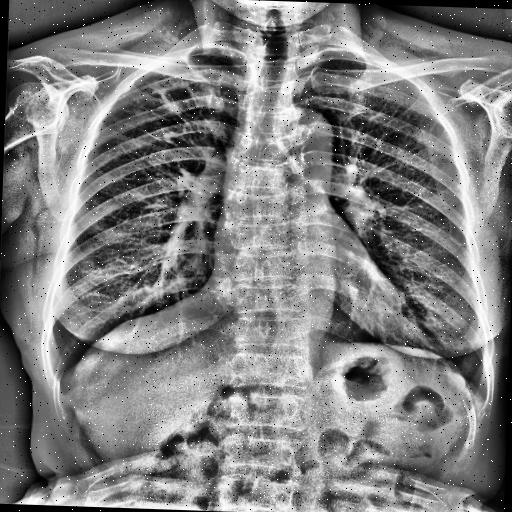0- Aortic enlargement: (282, 108, 335, 162)
10- Pleural effusion: (44, 362, 80, 389), (466, 378, 490, 412)
11- Pleural thickening: (44, 362, 80, 389), (466, 378, 490, 412)
13- Pulmonary fibrosis: (127, 76, 201, 148), (151, 60, 217, 136), (156, 88, 190, 124), (182, 57, 214, 81), (134, 128, 164, 141)
